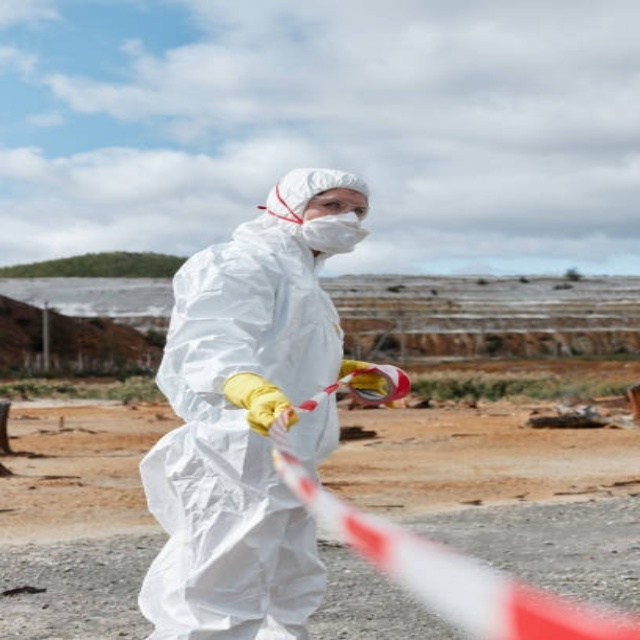Gafas: (307, 193, 370, 223)
Guantes: (222, 371, 298, 437), (340, 359, 398, 405)
Mascara: (296, 212, 370, 257)
